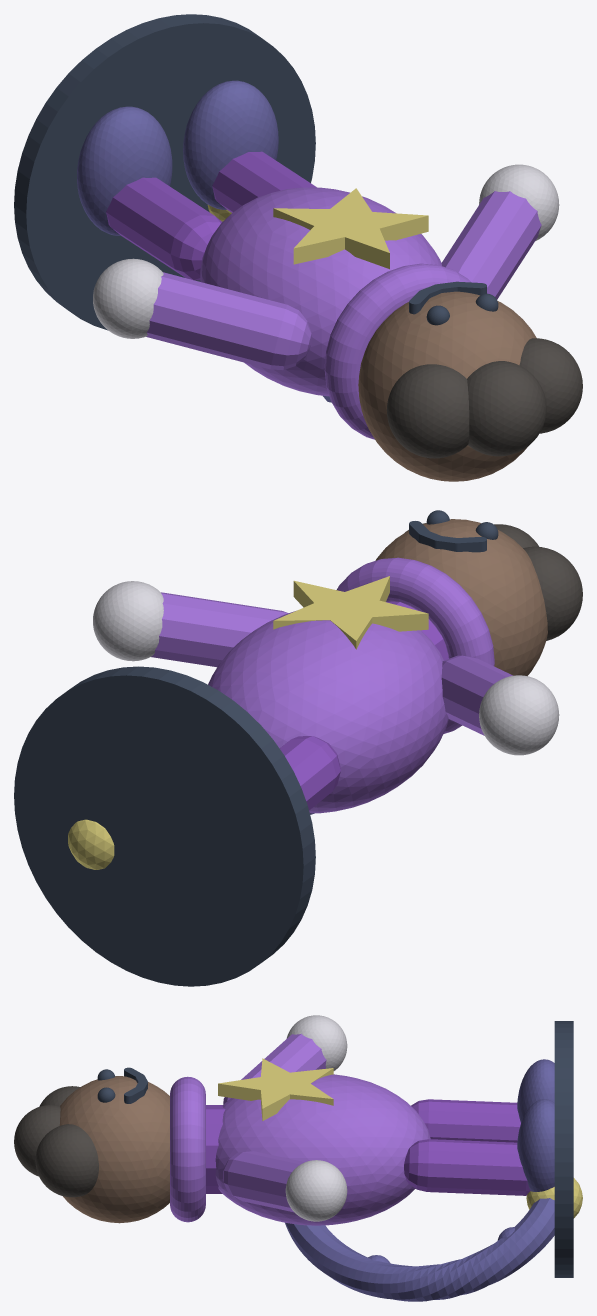
Rendered from neuronaut3d-cortex.glb.
3 renders of one model, top to bottom at view 1: azimuth 30°, elevation 25°; view 2: azimuth 150°, elevation 25°; view 3: azimuth 270°, elevation 25°, orthographic. The views are drawn at different scales.
Visible parts, largest first — view 1: geometry_0, geometry_5, geometry_12, geometry_6, geometry_11, geometry_4, geometry_2, geometry_1, geometry_13, geometry_14, geometry_8, geometry_19 (+5 smaller); view 2: geometry_0, geometry_5, geometry_12, geometry_11, geometry_8, geometry_19, geometry_7, geometry_9, geometry_13, geometry_6, geometry_1, geometry_24 (+1 smaller); view 3: geometry_5, geometry_12, geometry_20, geometry_3, geometry_0, geometry_11, geometry_1, geometry_15, geometry_19, geometry_8, geometry_9, geometry_4 (+8 smaller).
Boxes of the visible parts, x1,y1,x2,y2 form: geometry_0: (14, 14, 315, 330); geometry_5: (200, 187, 441, 396); geometry_12: (358, 291, 536, 481); geometry_6: (146, 272, 311, 370); geometry_11: (324, 263, 470, 439); geometry_4: (183, 80, 278, 209); geometry_2: (77, 106, 172, 235); geometry_1: (106, 177, 221, 280); geometry_13: (386, 364, 469, 458); geometry_14: (467, 361, 546, 456); geometry_8: (441, 191, 541, 299); geometry_19: (273, 188, 428, 269); geometry_0: (14, 666, 315, 986); geometry_5: (208, 611, 448, 813); geometry_12: (375, 519, 547, 676); geometry_11: (336, 557, 494, 733); geometry_8: (151, 592, 288, 667); geometry_19: (273, 576, 428, 649); geometry_7: (479, 675, 559, 755); geometry_9: (93, 581, 163, 661); geometry_13: (523, 546, 582, 640); geometry_6: (441, 655, 512, 735); geometry_1: (279, 736, 340, 810); geometry_24: (68, 819, 114, 869); geometry_5: (215, 1074, 430, 1225); geometry_12: (59, 1076, 169, 1223); geometry_20: (285, 1198, 554, 1301); geometry_3: (404, 1139, 530, 1195); geometry_0: (554, 1021, 573, 1277); geometry_11: (170, 1076, 205, 1222); geometry_1: (411, 1099, 520, 1142); geometry_15: (35, 1124, 98, 1197); geometry_19: (218, 1058, 333, 1120); geometry_8: (223, 1151, 304, 1212); geometry_9: (285, 1160, 347, 1221); geometry_4: (517, 1099, 554, 1191).
Size of the model in its own units: 47.2 by 30 by 66.4.
